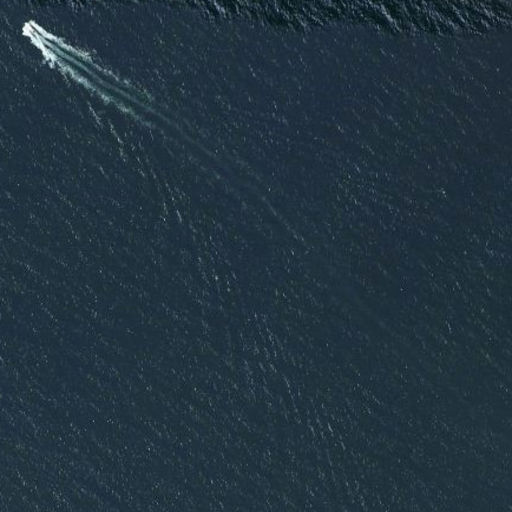ship: (20, 18, 41, 39)
